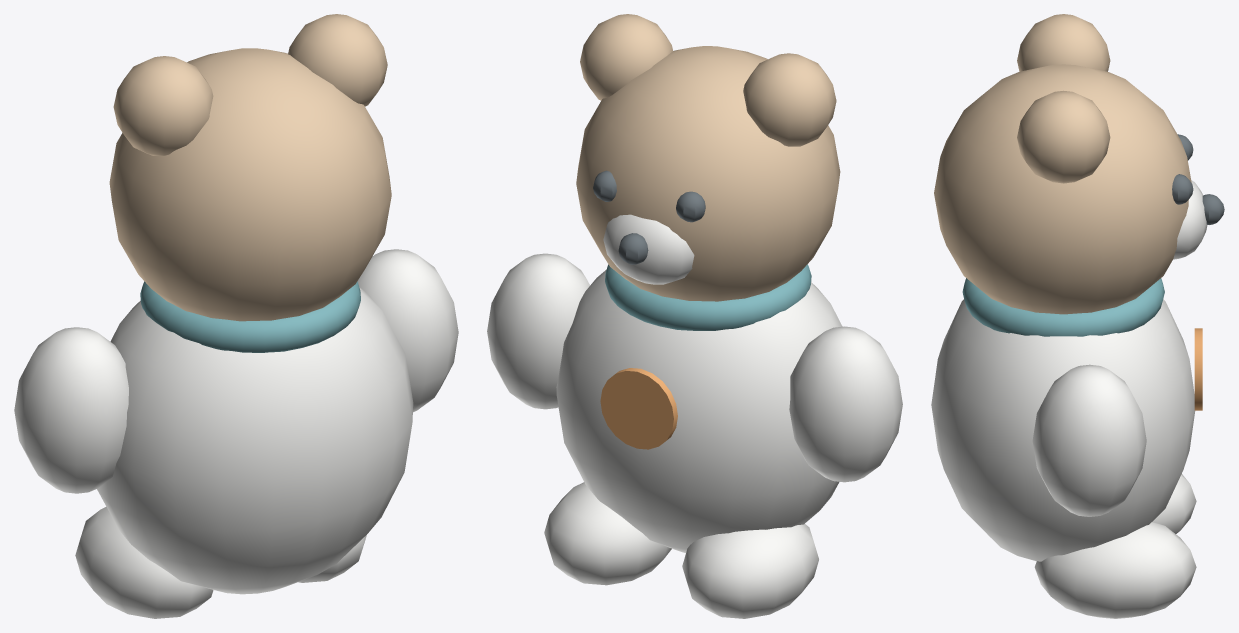
File: zero_g_plush.glb
3 renders of one model, left to right at view 1: azimuth 30°, elevation 25°; view 2: azimuth 150°, elevation 25°; view 3: azimuth 270°, elevation 25°, orthographic. The views are drawn at different scales.
Visible parts, largest first — view 1: body_plush_white, head_plush_tan, limbs_plush_white, ears_plush_tan, collar_teal; view 2: body_plush_white, head_plush_tan, limbs_plush_white, ears_plush_tan, collar_teal, patch_orange, snout_plush_white, eyes_graphite; view 3: head_plush_tan, body_plush_white, limbs_plush_white, ears_plush_tan, collar_teal, snout_plush_white, eyes_graphite, patch_orange.
Part boxes in pixels (x1,y1,x2,y2): body_plush_white: [97, 287, 413, 594]; head_plush_tan: [109, 48, 391, 321]; limbs_plush_white: [14, 249, 458, 618]; ears_plush_tan: [113, 14, 387, 155]; collar_teal: [140, 281, 360, 352]; body_plush_white: [556, 269, 842, 553]; head_plush_tan: [576, 46, 840, 301]; limbs_plush_white: [487, 253, 902, 618]; ears_plush_tan: [580, 14, 836, 146]; collar_teal: [605, 264, 811, 330]; patch_orange: [600, 368, 677, 449]; snout_plush_white: [603, 214, 694, 284]; eyes_graphite: [593, 170, 705, 264]; head_plush_tan: [934, 64, 1191, 314]; body_plush_white: [931, 299, 1195, 561]; limbs_plush_white: [1032, 364, 1196, 618]; ears_plush_tan: [1017, 14, 1110, 183]; collar_teal: [962, 278, 1164, 336]; snout_plush_white: [1173, 180, 1207, 259]; eyes_graphite: [1172, 134, 1224, 224]; patch_orange: [1194, 328, 1202, 410].
Size of the model in its own units: 0.174 by 0.2222 by 0.113.
